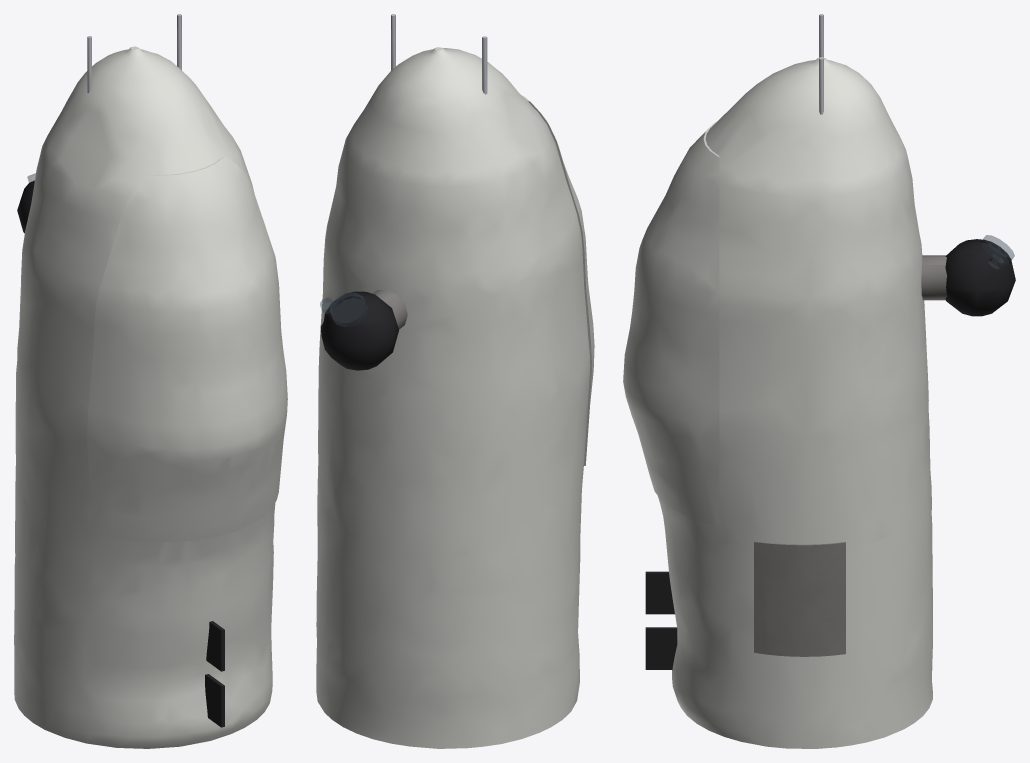
The model's file is cockpit05_drone_avionics_nose.glb.
The picture shows the model from 3 angles, left to right: view 1: azimuth 30°, elevation 25°; view 2: azimuth 150°, elevation 25°; view 3: azimuth 270°, elevation 25°; orthographic projection. The views are drawn at different scales.
Visible parts, largest first — view 1: fuselage, satcom_radome, blade_antennas, air_data_probes, sensor_ball; view 2: fuselage, sensor_ball, satcom_radome, sensor_windows, air_data_probes, turret_mount; view 3: fuselage, satcom_radome, avionics_access_panel, sensor_ball, blade_antennas, turret_mount, sensor_windows.
Boxes of the visible parts, <box> form: fuselage: <box>14,46,275,748</box>; satcom_radome: <box>87,157,287,542</box>; blade_antennas: <box>205,621,224,727</box>; air_data_probes: <box>87,14,181,93</box>; sensor_ball: <box>17,180,34,233</box>; fuselage: <box>316,47,590,748</box>; sensor_ball: <box>320,291,398,370</box>; satcom_radome: <box>521,95,594,465</box>; sensor_windows: <box>320,292,367,326</box>; air_data_probes: <box>391,14,487,94</box>; turret_mount: <box>372,289,407,329</box>; fuselage: <box>658,57,932,748</box>; satcom_radome: <box>623,122,719,526</box>; avionics_access_panel: <box>754,541,845,656</box>; sensor_ball: <box>945,239,1015,316</box>; blade_antennas: <box>645,571,677,669</box>; turret_mount: <box>921,255,946,300</box>; sensor_windows: <box>981,235,1014,269</box>.
Bounding box in the file's own units: 1.26 × 3.55 × 1.92.
5 materials, 2 textured.
